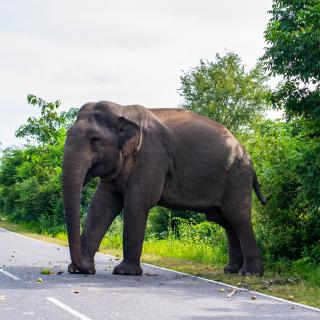Elephant: (54, 98, 284, 282)
